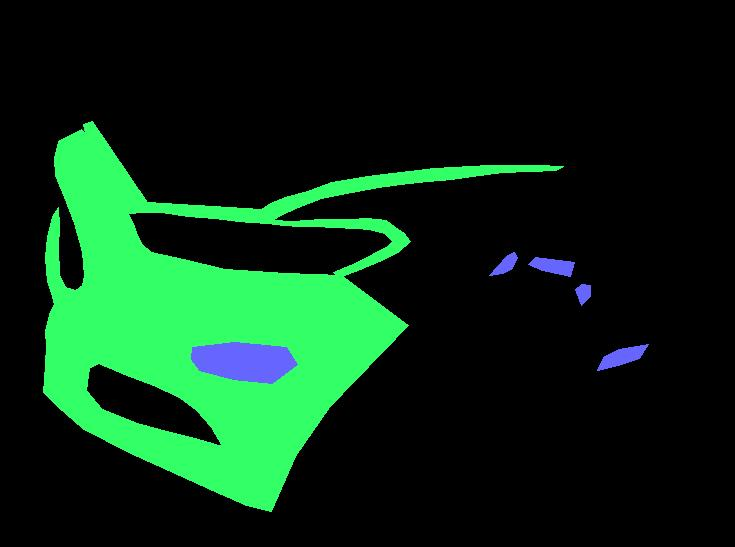Broken part: (43, 129, 408, 511), (83, 121, 563, 277)
Scratch: (191, 342, 297, 383), (597, 344, 648, 370), (528, 257, 574, 276), (489, 252, 517, 275), (575, 284, 590, 305)
